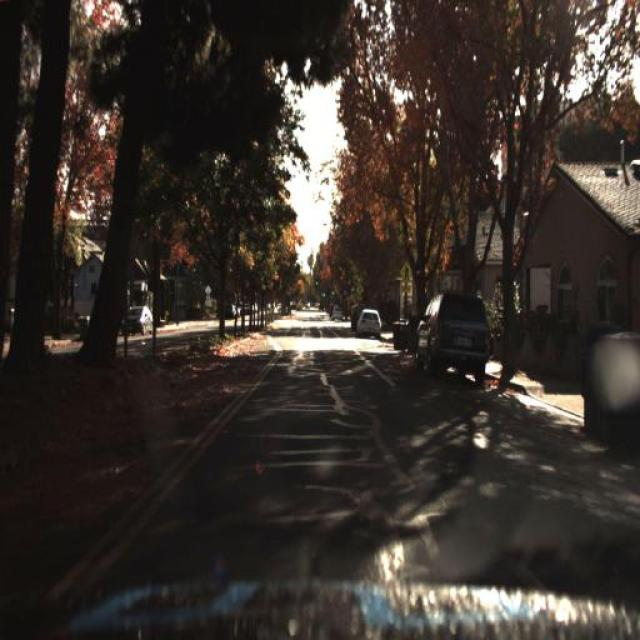car: (408, 289, 493, 380), (120, 297, 158, 347), (120, 305, 156, 340), (356, 308, 383, 342), (358, 307, 383, 338), (332, 305, 343, 320)
